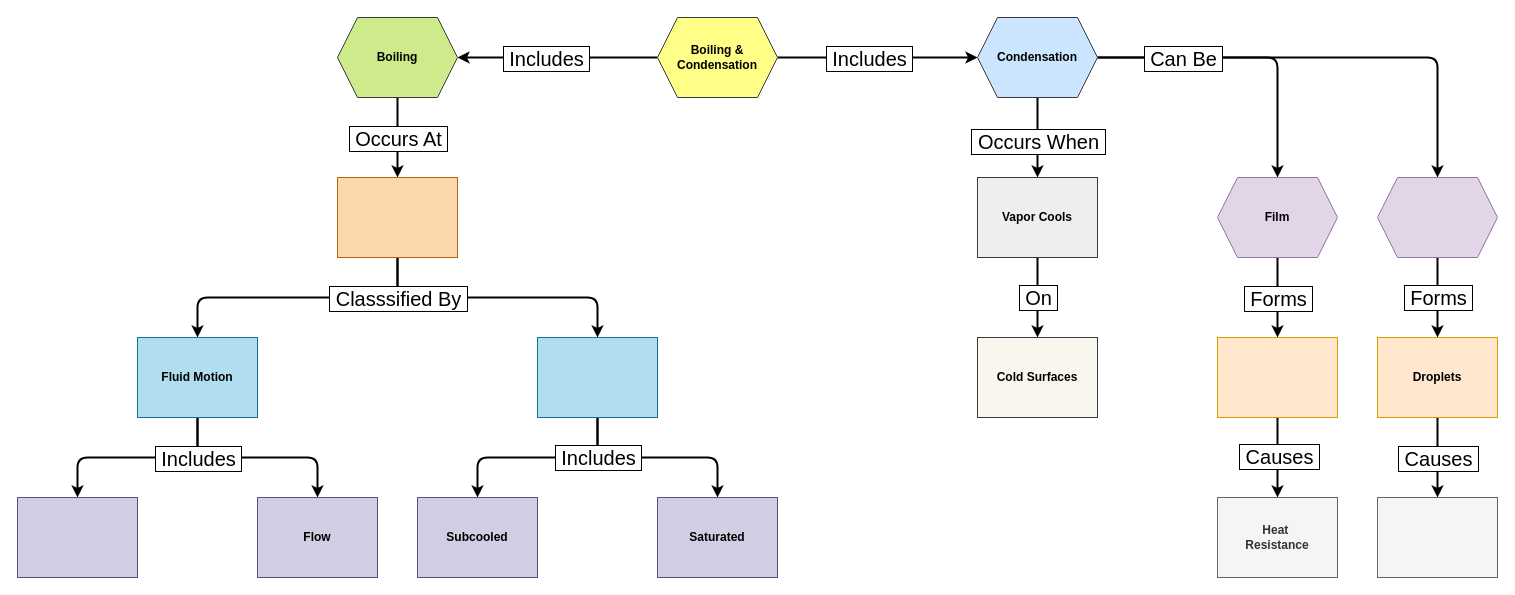
Image size: 1515x595. Some labels were removed from this diagram. Each missing label, with the centre of its shape:
Bulk Temp: [597,377]
Drop-Wise: [1437,217]
High Transfer: [1437,537]
Liquid Film: [1277,377]
Pool: [77,537]
Solid Surfaces: [397,217]
